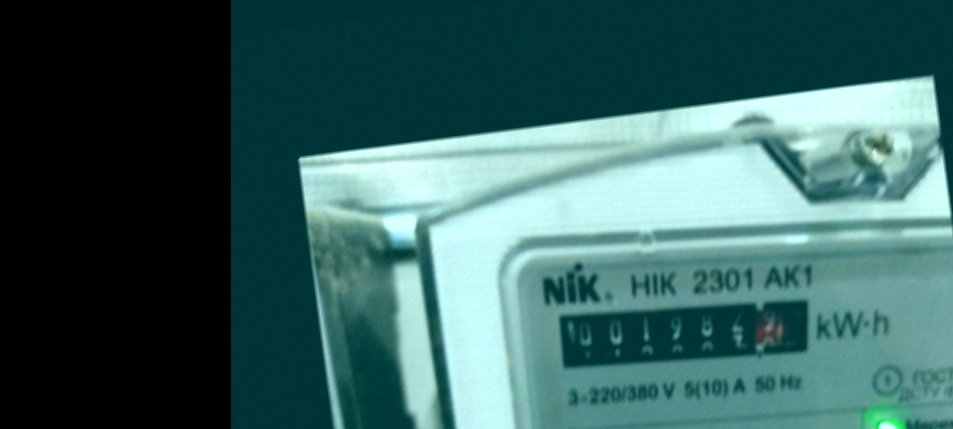0: (575, 314, 595, 345), (606, 313, 626, 344)
1: (637, 310, 653, 340)
2: (727, 301, 748, 332)
8: (697, 306, 717, 336)
9: (758, 302, 782, 333), (666, 309, 685, 340)
screen: (539, 265, 830, 396)
